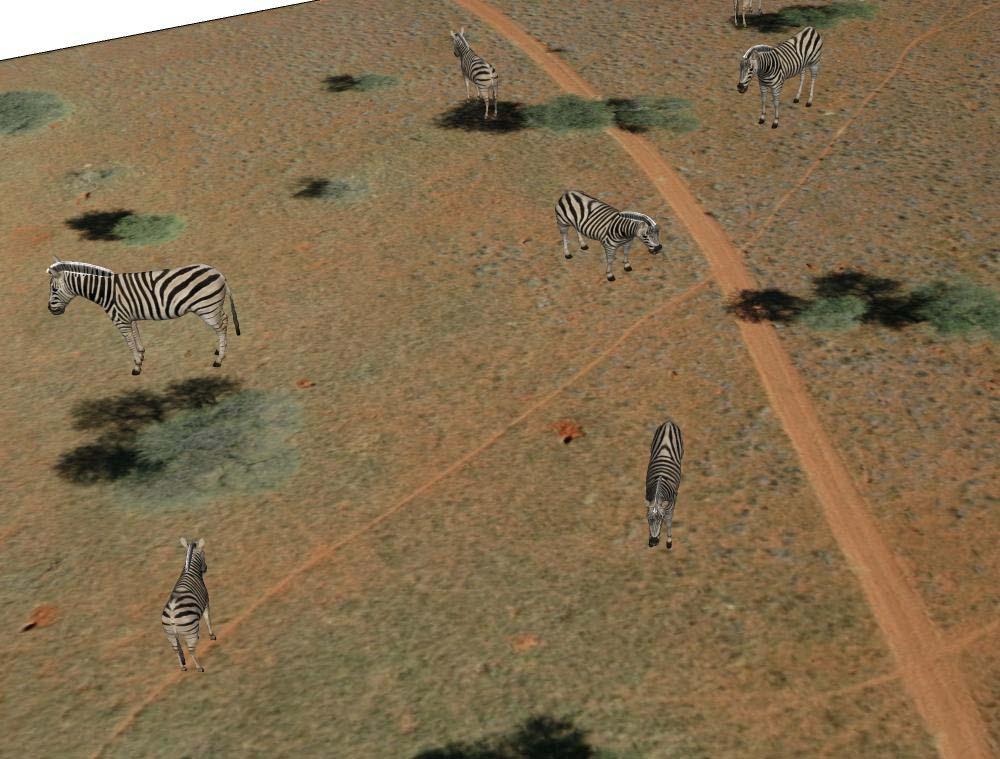zebra: (42, 256, 242, 378), (555, 181, 661, 285), (737, 24, 823, 131), (161, 535, 223, 673), (639, 418, 686, 553), (444, 24, 501, 126)
